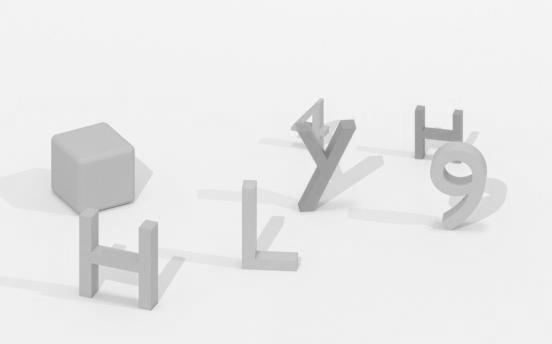chu_khoi: (79, 208, 157, 309), (296, 120, 355, 211), (241, 180, 298, 270), (414, 105, 462, 158)
lap_phuong: (51, 122, 135, 212)
so_khoi: (430, 142, 486, 228), (291, 98, 329, 146)
